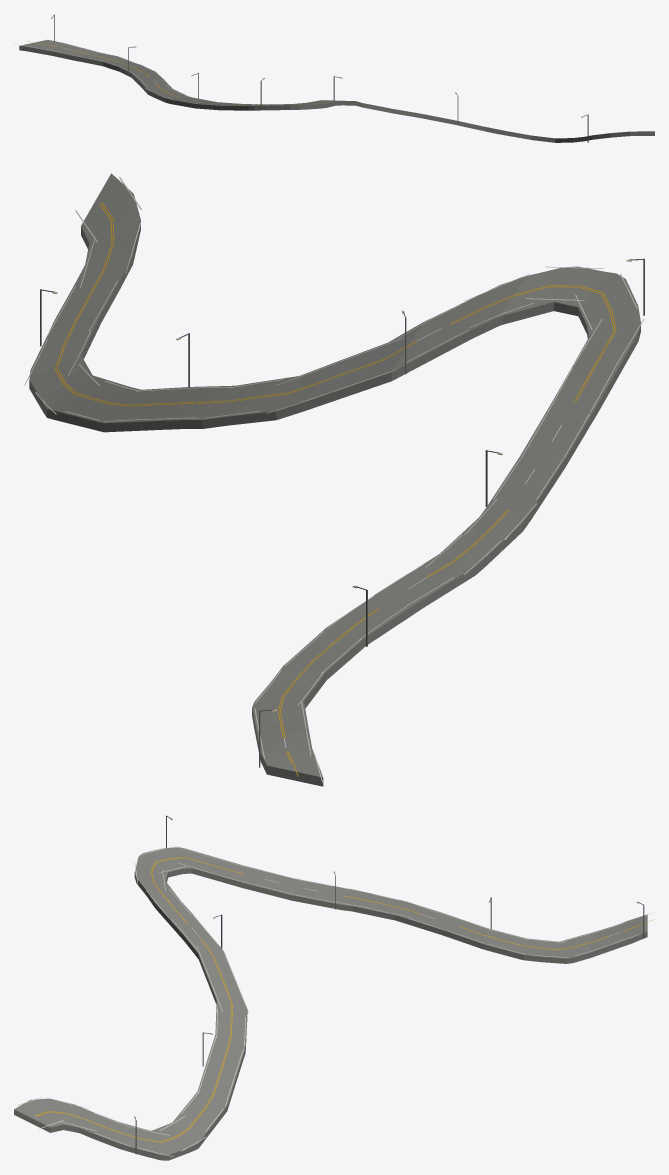
The picture shows the model from 3 angles, top to bottom: view 1: azimuth 30°, elevation 25°; view 2: azimuth 150°, elevation 25°; view 3: azimuth 270°, elevation 25°; orthographic projection. The views are drawn at different scales.
Size of the model in its own units: 106 by 37.02 by 129.
